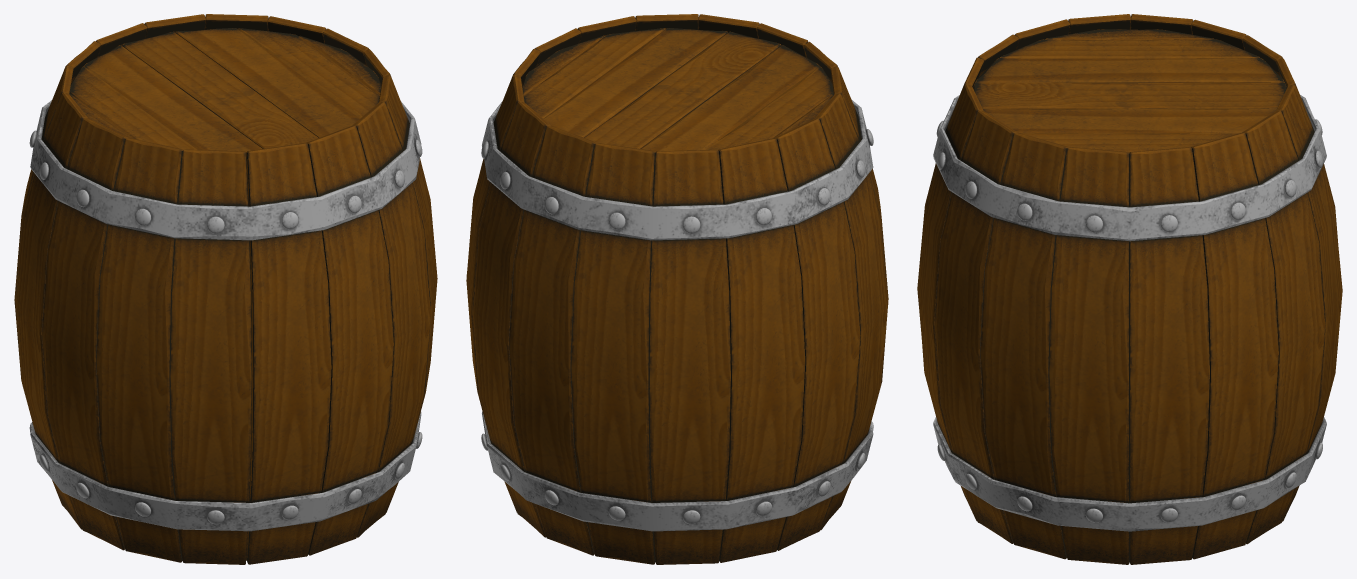
The model's file is wooden_barrel.glb.
3 views of the same model, side by side, from view 1: azimuth 30°, elevation 25°; view 2: azimuth 150°, elevation 25°; view 3: azimuth 270°, elevation 25° (orthographic).
Parts seen in each view (by area): view 1: Cylinder, Circle, Cylinder.004, Cylinder.005, Cylinder.003, Sphere, Cylinder.002; view 2: Cylinder, Circle, Cylinder.004, Cylinder.005, Cylinder.003, Sphere, Cylinder.002; view 3: Cylinder, Circle, Cylinder.004, Cylinder.005, Cylinder.003, Sphere, Cylinder.002.
Boxes of the visible parts, <box> form: Cylinder: <box>14,14,437,564</box>; Circle: <box>30,100,421,531</box>; Cylinder.004: <box>84,28,359,152</box>; Cylinder.005: <box>122,31,318,148</box>; Cylinder.003: <box>69,28,379,149</box>; Sphere: <box>29,130,422,524</box>; Cylinder.002: <box>69,36,381,137</box>; Cylinder: <box>466,14,888,564</box>; Circle: <box>482,99,873,531</box>; Cylinder.004: <box>543,28,819,151</box>; Cylinder.005: <box>585,31,781,148</box>; Cylinder.003: <box>523,28,833,149</box>; Sphere: <box>481,129,873,524</box>; Cylinder.002: <box>522,35,833,138</box>; Cylinder: <box>917,14,1342,564</box>; Circle: <box>933,95,1326,531</box>; Cylinder.004: <box>975,58,1284,133</box>; Cylinder.005: <box>973,82,1286,108</box>; Cylinder.003: <box>1000,39,1259,151</box>; Sphere: <box>936,119,1322,522</box>; Cylinder.002: <box>1045,29,1213,152</box>.
Bounding box in the file's own units: 381 × 408 × 381.
2 materials, 2 textured.
